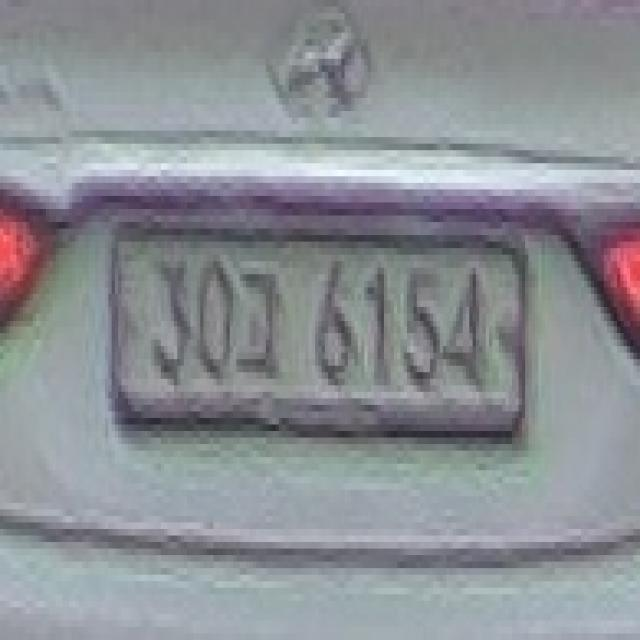0: (194, 255, 236, 385)
1: (358, 261, 394, 392)
3: (151, 255, 190, 385)
4: (450, 268, 486, 392)
5: (400, 268, 440, 392)
6: (308, 255, 354, 385)
go: (240, 268, 279, 379)
license_plate: (112, 222, 525, 444)
